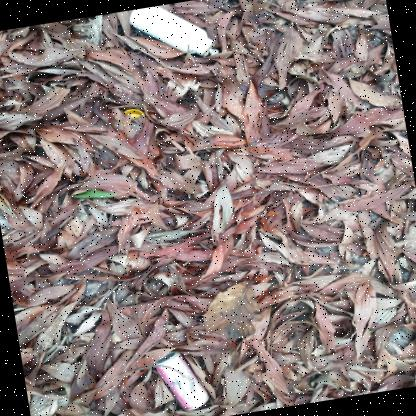Drink can: (154, 351, 209, 410)
Other plastic container: (129, 6, 214, 56)
Plastic bottle cap: (124, 109, 144, 118)
